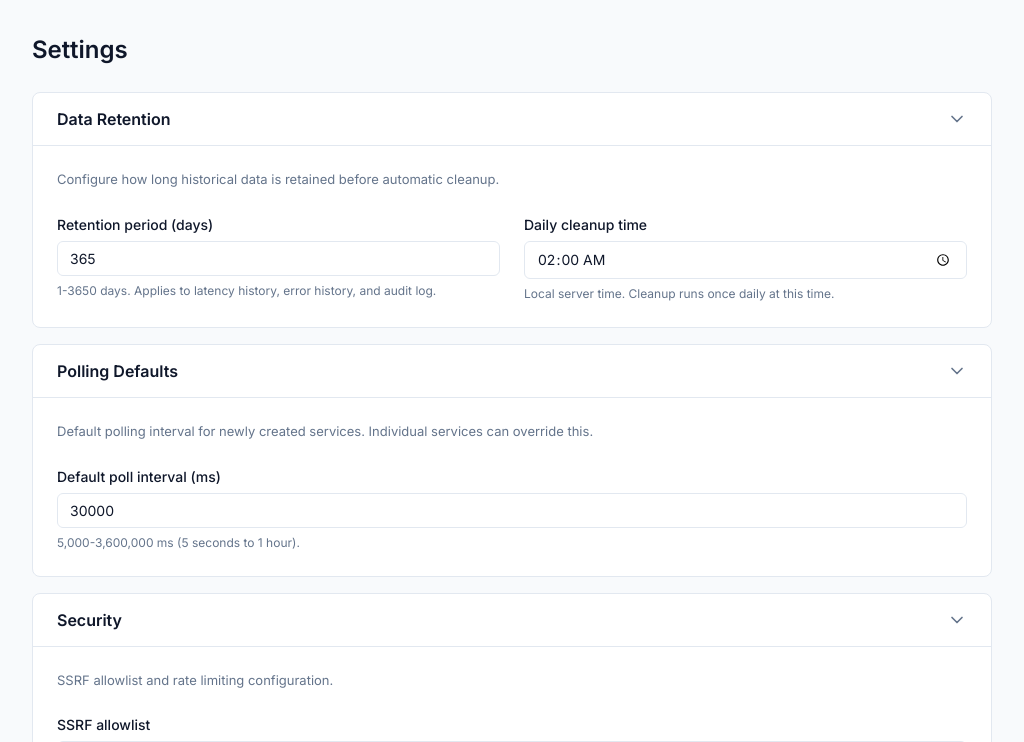
Test: AdminSettings › collapses and expands sections
Check: the heading "Settings" is shown, box 32,32 -> 128,68
Check: the number field labelled "Retention period (days)" is shown, box 57,240 -> 500,276
Note: Collapse Data Retention section
Click the button "Data Retention". click: x=114, y=119
box: 33,93 -> 991,145
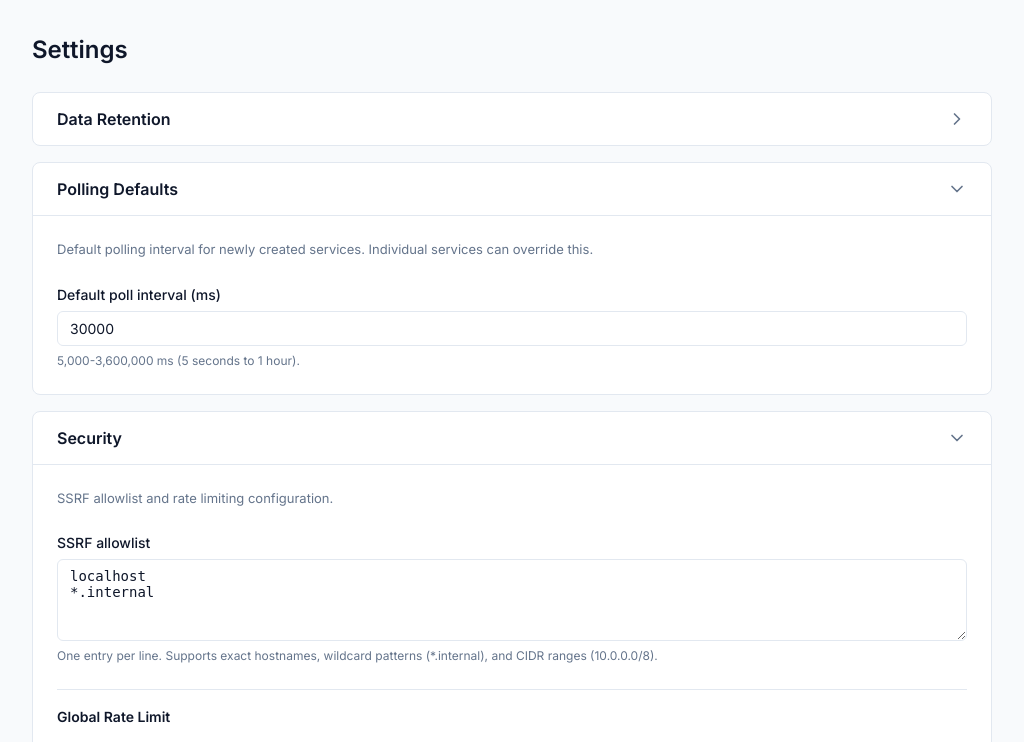
Check: the label labelled "Retention period (days)" is gone
Note: Expand it again
Click the button "Data Retention". click: x=114, y=119
box: 33,93 -> 991,145
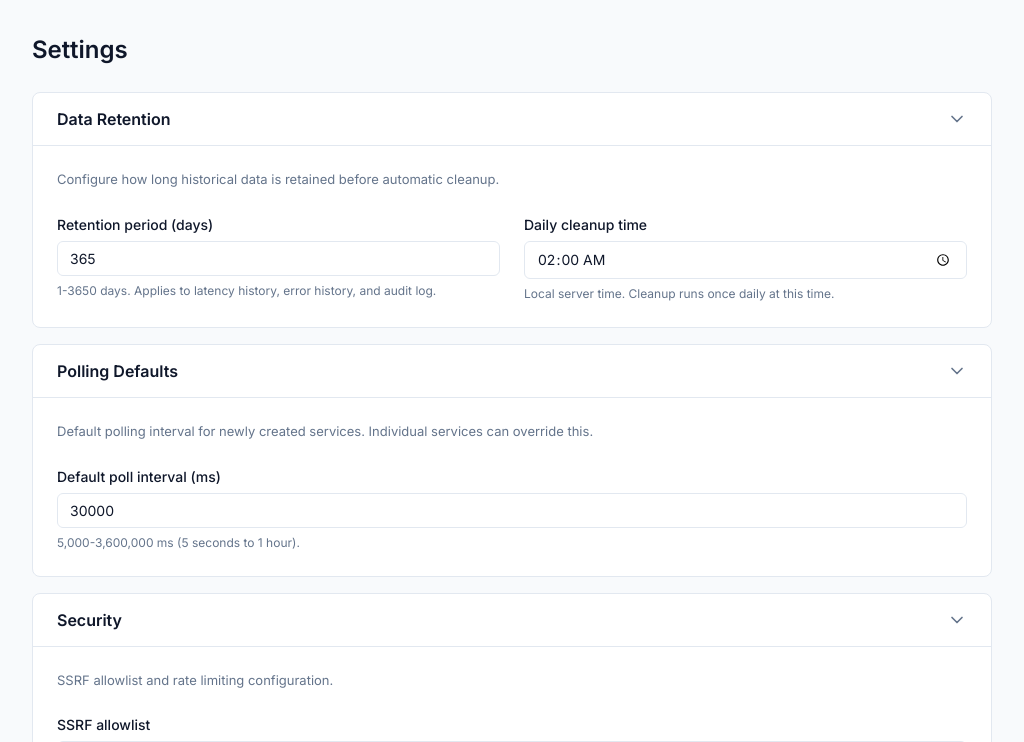
Check: the number field labelled "Retention period (days)" is shown, box 57,240 -> 500,276
